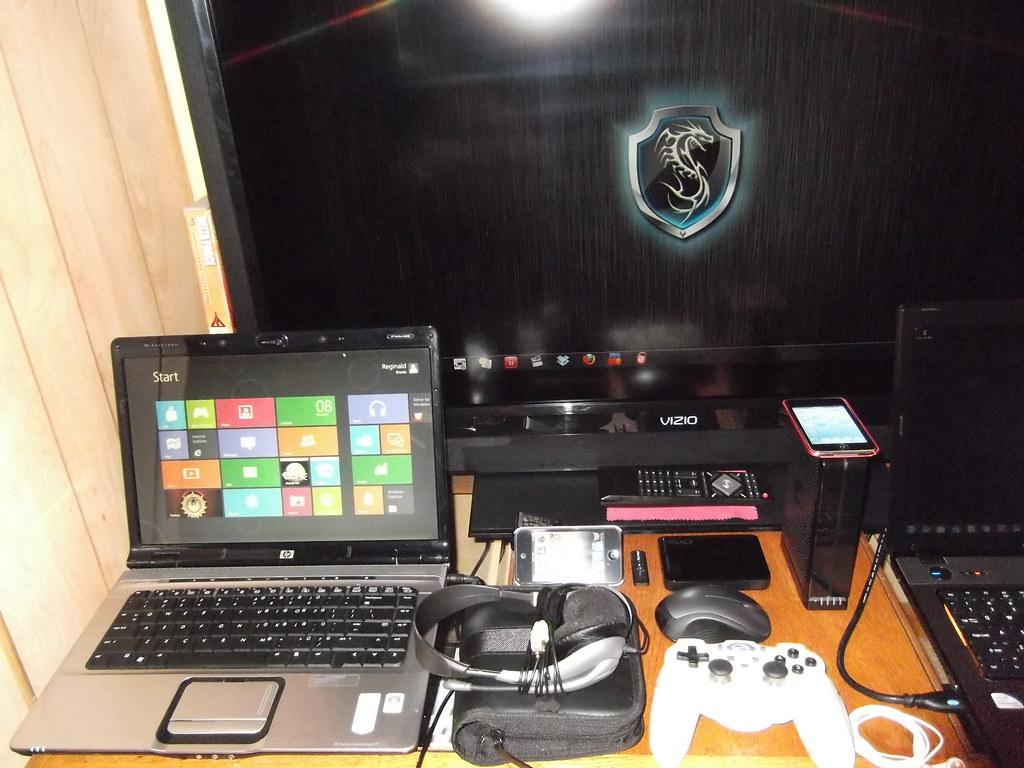computer: (156, 1, 1023, 499), (10, 325, 456, 758), (880, 296, 1024, 768)
